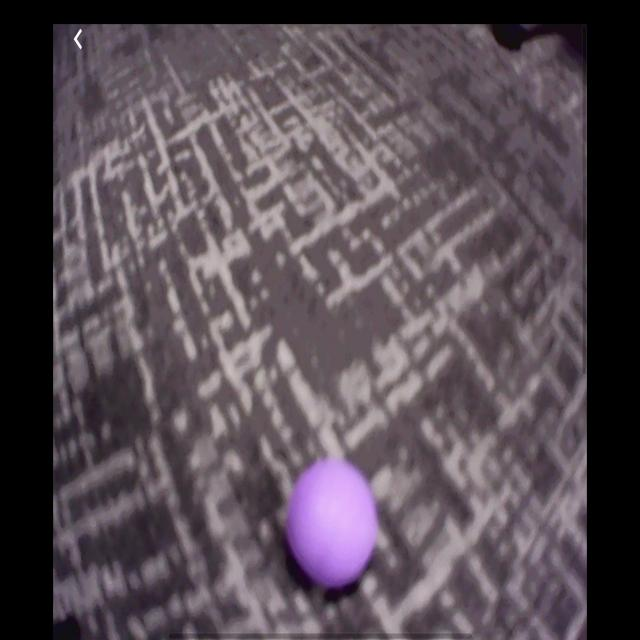ball: (285, 457, 380, 592)
